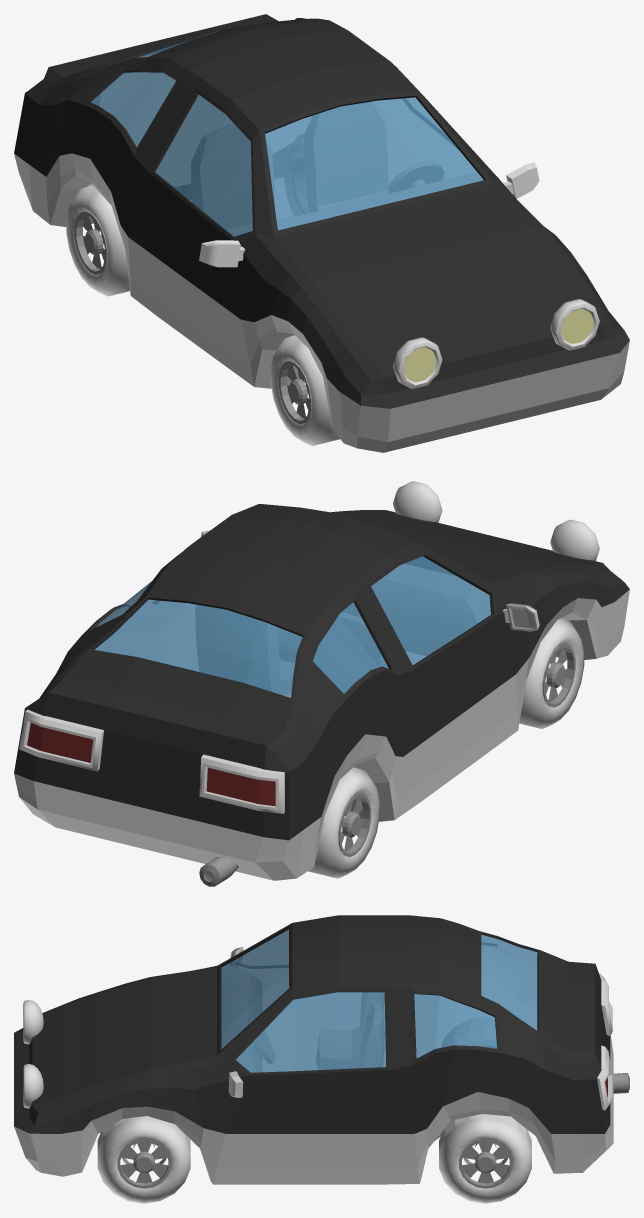
File: toyo_evo1_black_blanc.glb
3 renders of one model, top to bottom at view 1: azimuth 30°, elevation 25°; view 2: azimuth 150°, elevation 25°; view 3: azimuth 270°, elevation 25°, orthographic. The views are drawn at different scales.
Visible parts, largest first — view 1: body:PIV, glass_front:PIV, glass_rf:PIV, seat_l:PIV, seat_r:PIV, tire_rb:PIV, tire_rf:PIV, glass_rb:PIV, int_front_bloc3:PIV, rim_rb:PIV, rim_rf:PIV, headlight_rf:PIV (+7 smaller); view 2: body:PIV, glass_back:PIV, glass_rf:PIV, int_front_bloc3:PIV, seat_l:PIV, glass_rb:PIV, tire_rb:PIV, tire_rf:PIV, seat_r:PIV, backlight_rb, backlight_lb, backlight_glass_rb:PIV (+8 smaller); view 3: body:PIV, glass_lf:PIV, tire_lb:PIV, glass_front:PIV, tire_lf:PIV, glass_back:PIV, glass_lb:PIV, int_front_bloc3:PIV, seat_r:PIV, rim_lf:PIV, rim_lb:PIV, tire_rb:PIV (+6 smaller).
Part boxes in pixels (box(x1,y1,x2,y2)): body:PIV: box(14, 14, 629, 452); glass_front:PIV: box(265, 97, 483, 230); glass_rf:PIV: box(155, 94, 252, 236); seat_l:PIV: box(304, 102, 387, 211); seat_r:PIV: box(191, 125, 274, 235); tire_rb:PIV: box(66, 185, 129, 296); tire_rf:PIV: box(270, 335, 339, 445); glass_rb:PIV: box(90, 72, 175, 146); int_front_bloc3:PIV: box(277, 173, 481, 229); rim_rb:PIV: box(74, 211, 107, 274); rim_rf:PIV: box(279, 361, 311, 424); headlight_rf:PIV: box(393, 337, 442, 388); body:PIV: box(14, 504, 629, 880); glass_back:PIV: box(94, 599, 302, 697); glass_rf:PIV: box(371, 556, 490, 664); int_front_bloc3:PIV: box(343, 564, 490, 655); seat_l:PIV: box(196, 605, 294, 694); glass_rb:PIV: box(313, 602, 388, 693); tire_rb:PIV: box(308, 767, 379, 878); tire_rf:PIV: box(519, 618, 584, 728); seat_r:PIV: box(313, 613, 387, 692); backlight_rb: box(199, 754, 284, 813); backlight_lb: box(19, 709, 103, 771); backlight_glass_rb:PIV: box(206, 767, 275, 806); body:PIV: box(14, 915, 613, 1184); glass_lf:PIV: box(236, 992, 385, 1072); tire_lb:PIV: box(439, 1114, 531, 1203); glass_front:PIV: box(221, 929, 289, 1048); tire_lf:PIV: box(97, 1116, 190, 1203); glass_back:PIV: box(481, 934, 537, 1030); glass_lb:PIV: box(414, 994, 497, 1058); int_front_bloc3:PIV: box(222, 966, 261, 1071); seat_r:PIV: box(316, 993, 383, 1069); rim_lf:PIV: box(117, 1139, 170, 1188); rim_lb:PIV: box(459, 1139, 512, 1188); tire_rb:PIV: box(442, 1017, 496, 1047).
Bounding box in the file's own units: 180 × 129 × 338.
